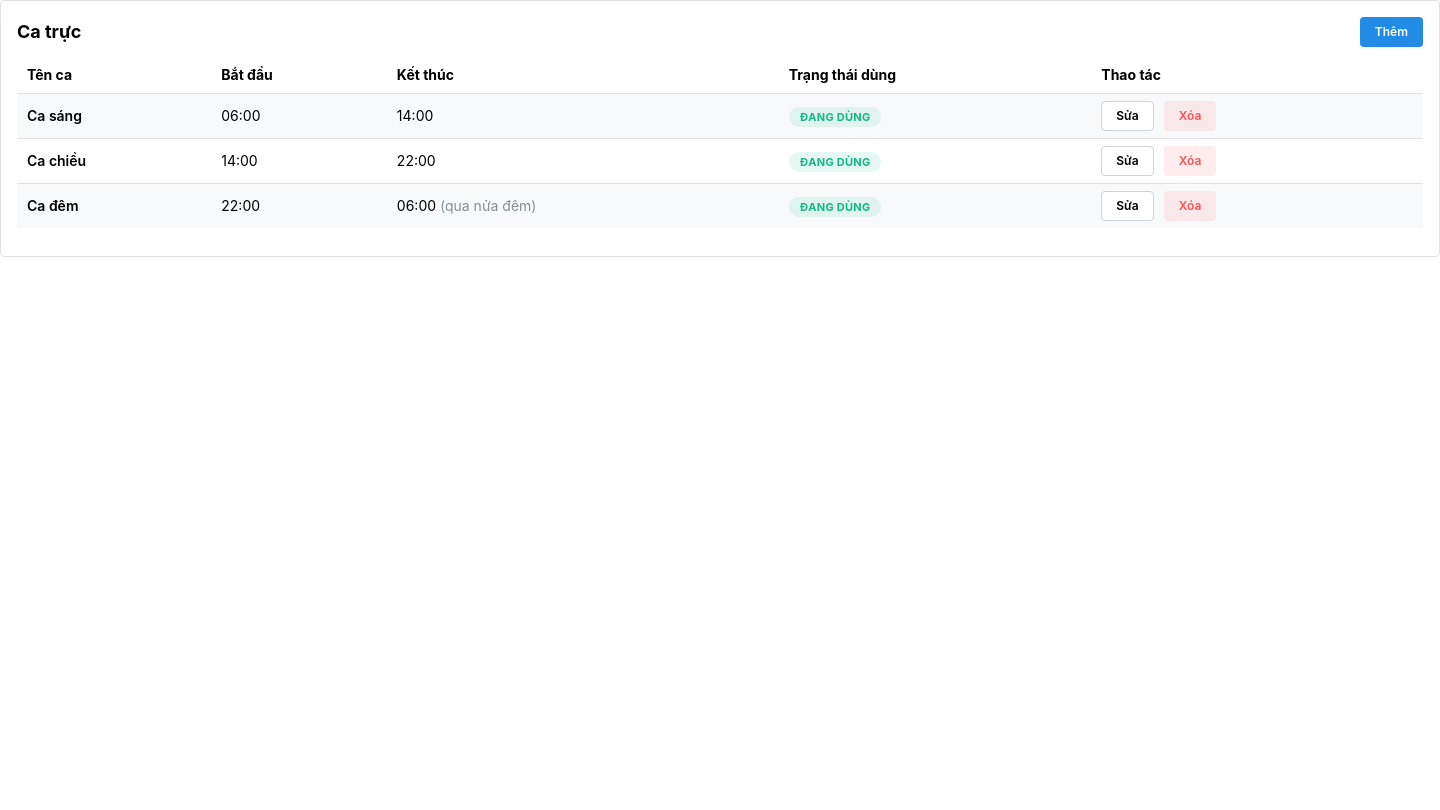
ShiftsTab › same start and end is rejected before sending
The width and height of the screenshot is (1440, 810).
Step 1. Click the button "Thêm" → (1391,32), box [1360,17,1423,47]
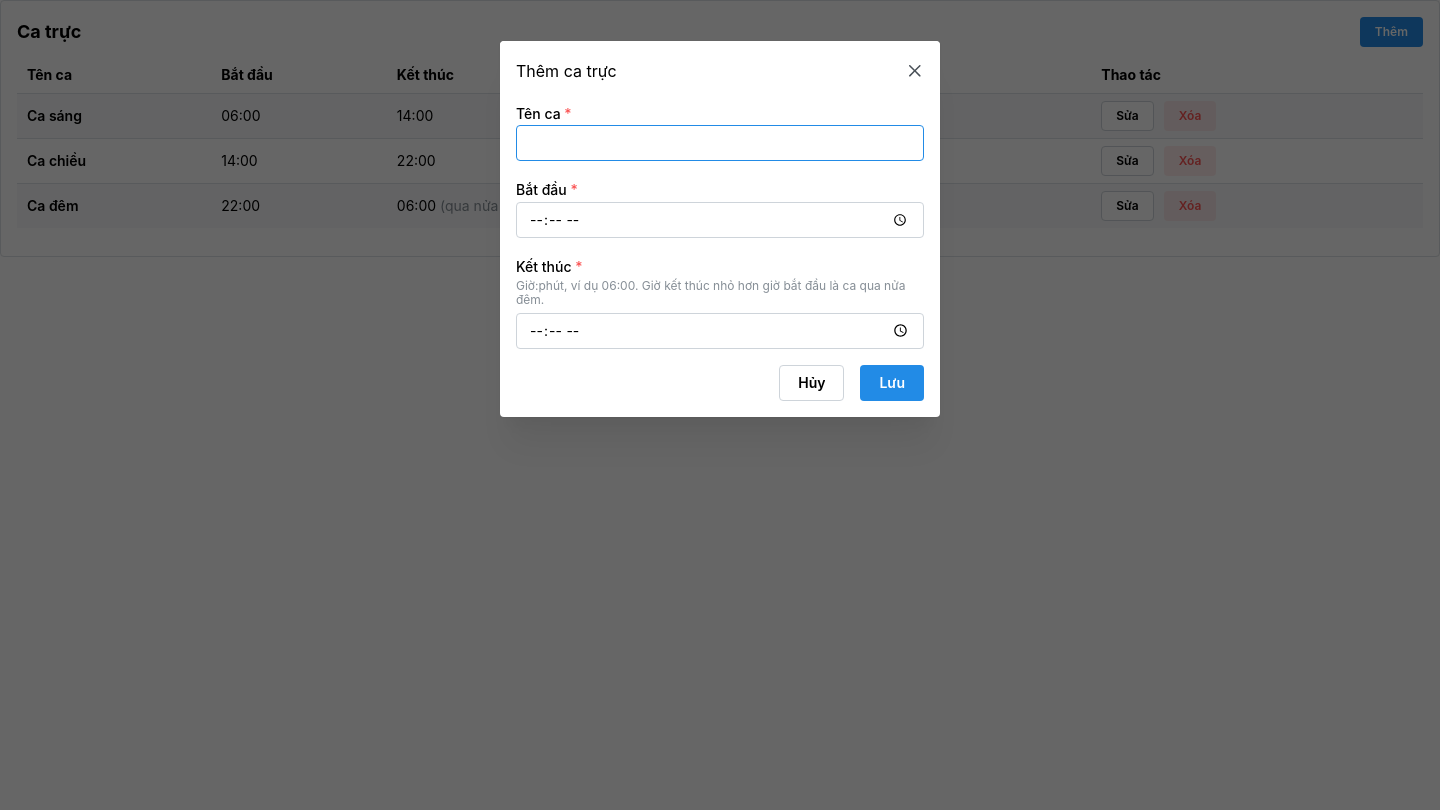
Step 2. Type "Ca lỗi" into the field labelled "Tên ca *" → (720,143), box [516,125,924,161]
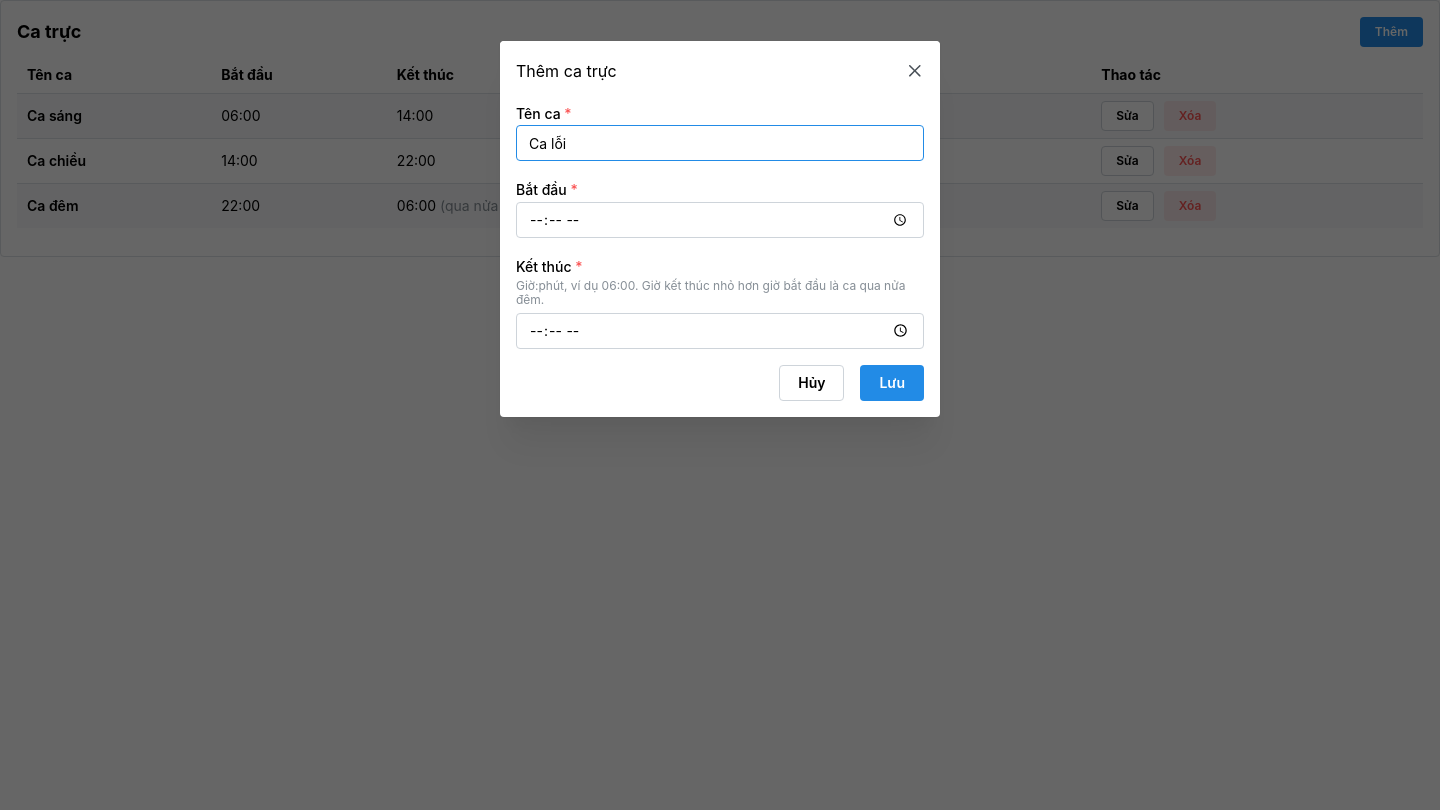
Step 3. Type "08:00" into the time field labelled "Bắt đầu *" → (720,220), box [516,202,924,238]
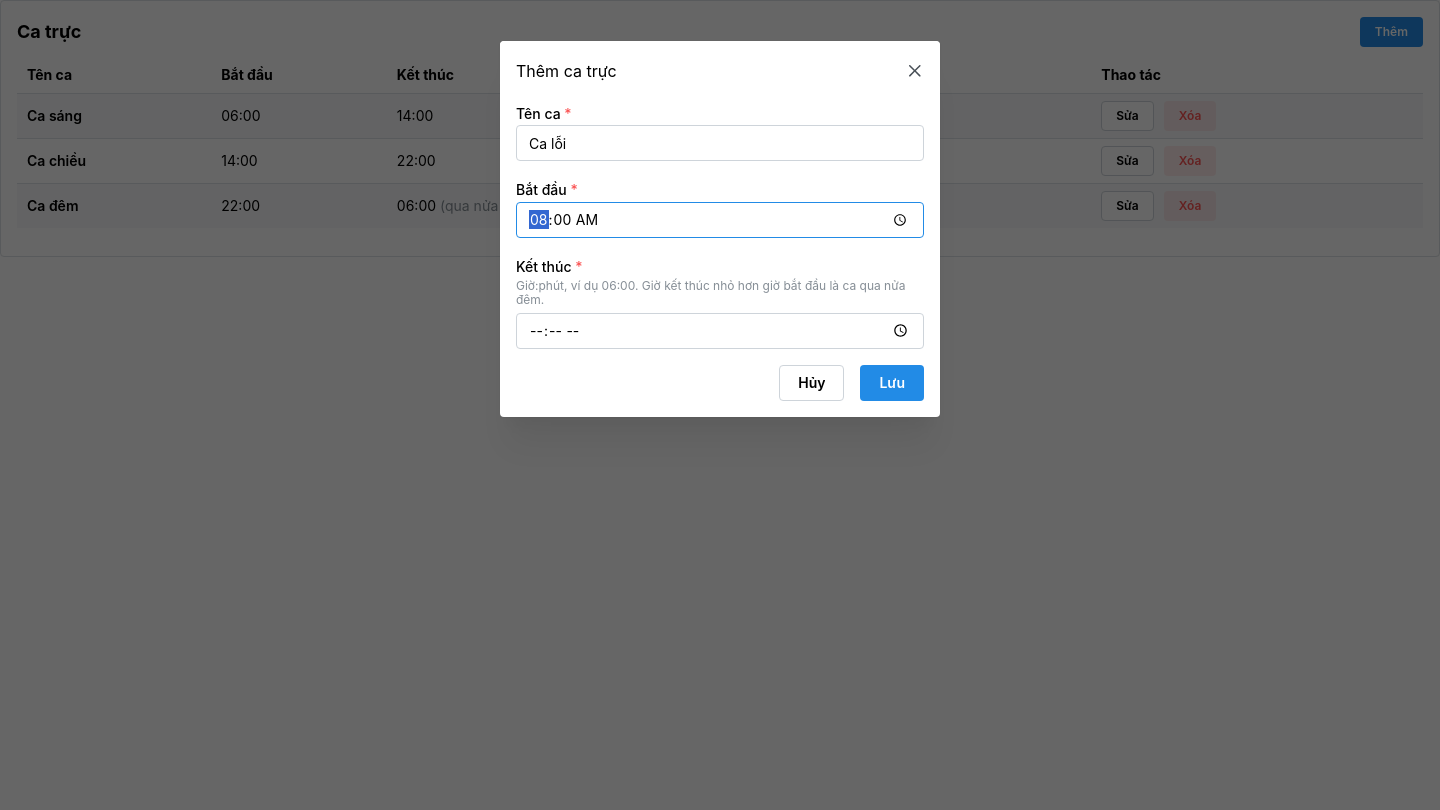
Step 4. Type "08:00" into the time field labelled "Kết thúc *" → (720,331), box [516,313,924,349]
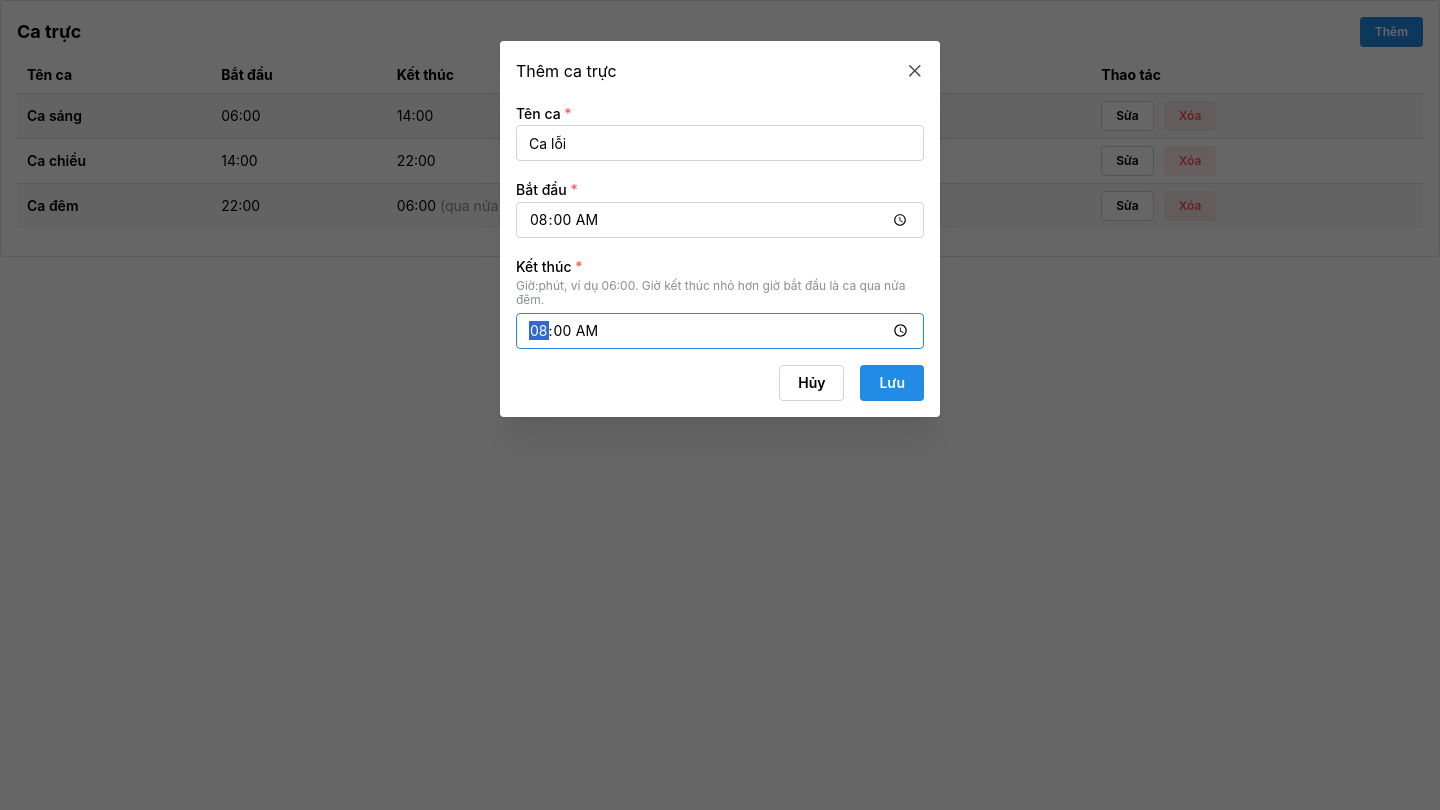
Step 5. Click the button "Lưu" → (892,383), box [860,365,924,401]
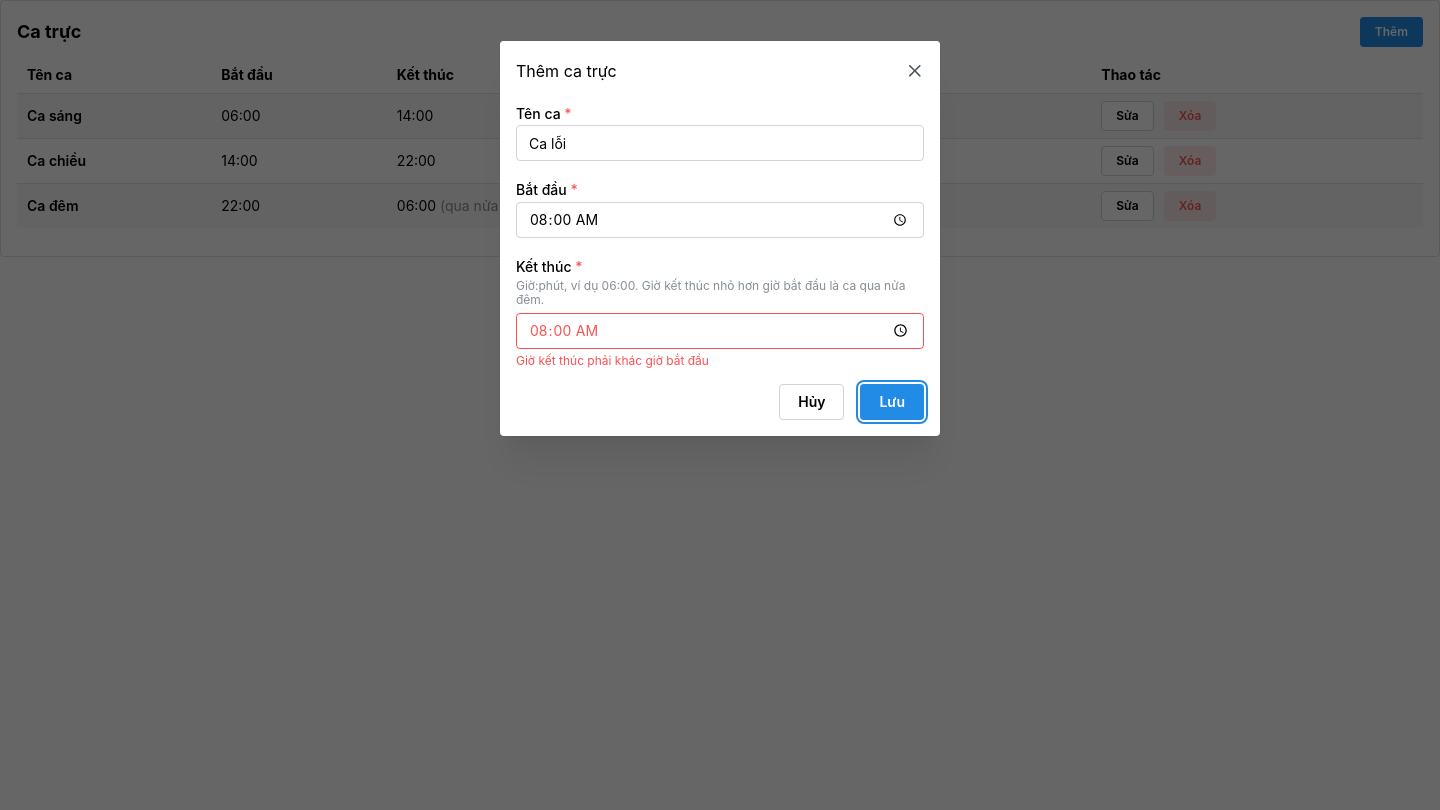
Result: the text "Giờ kết thúc phải khác giờ bắt đầu" is shown at [516,353,709,368]
